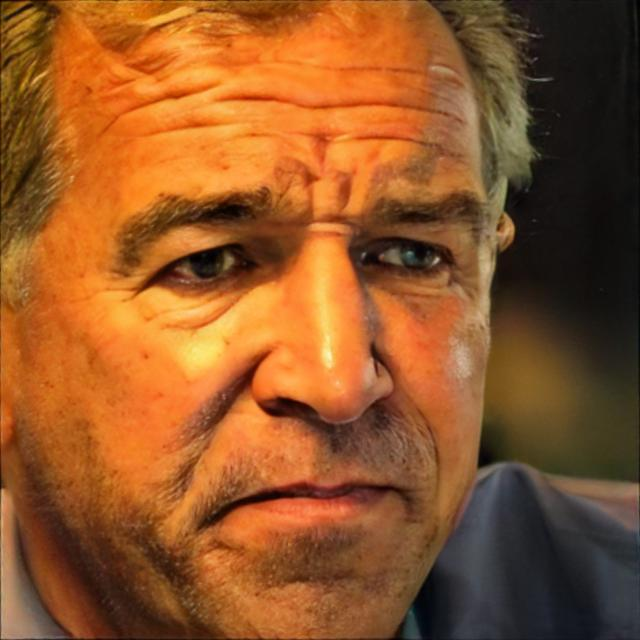sad: (39, 26, 492, 640)
